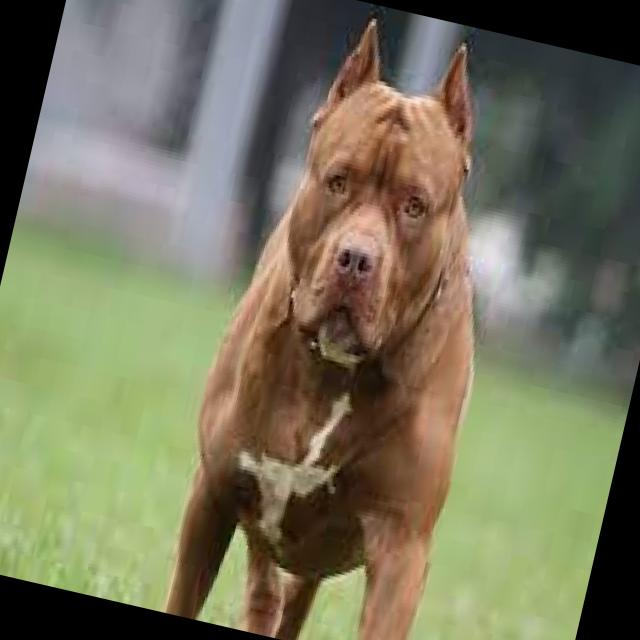Dog: (222, 45, 518, 412)
